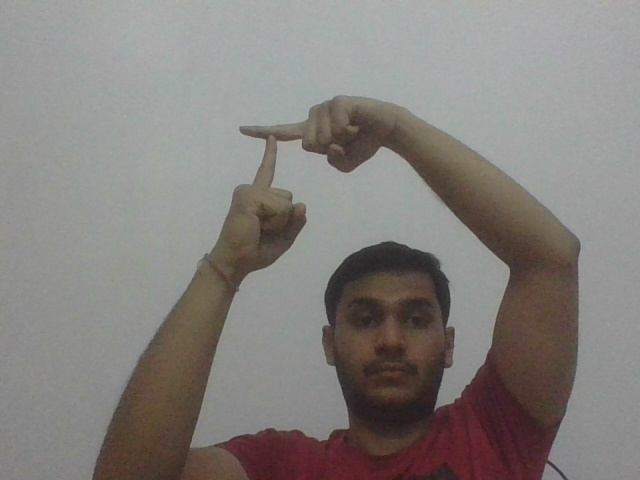T: (238, 115, 300, 186)
